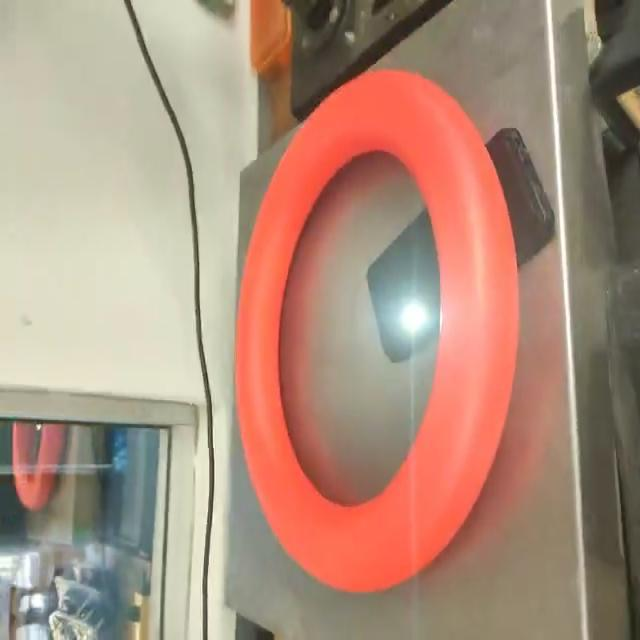note: (228, 64, 526, 608)
